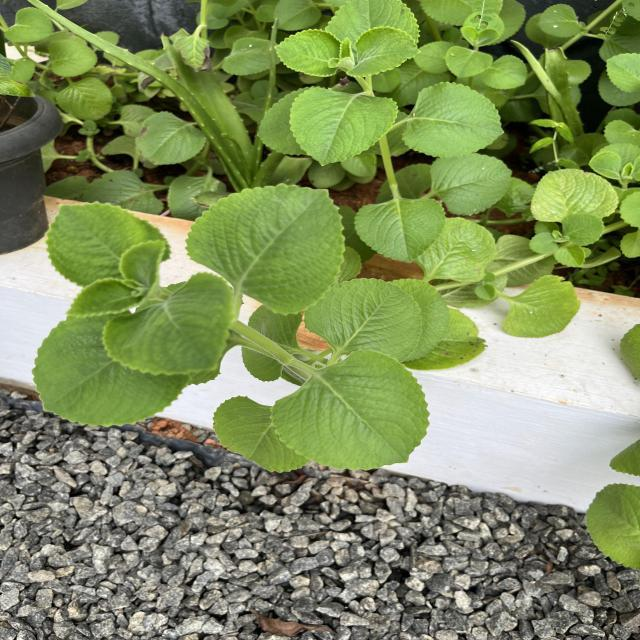Plectranthus barbatus: (184, 182, 349, 318), (268, 346, 431, 472), (28, 309, 188, 424), (98, 272, 242, 376), (302, 276, 423, 364), (46, 202, 172, 286), (288, 85, 398, 167), (400, 80, 506, 160), (353, 196, 448, 264), (428, 152, 513, 217), (500, 274, 583, 339), (529, 168, 620, 223), (133, 110, 209, 164), (346, 26, 422, 79), (272, 28, 342, 78), (54, 76, 114, 122), (47, 40, 100, 78), (4, 6, 55, 44), (483, 54, 529, 91), (444, 44, 494, 78), (560, 212, 605, 246)
